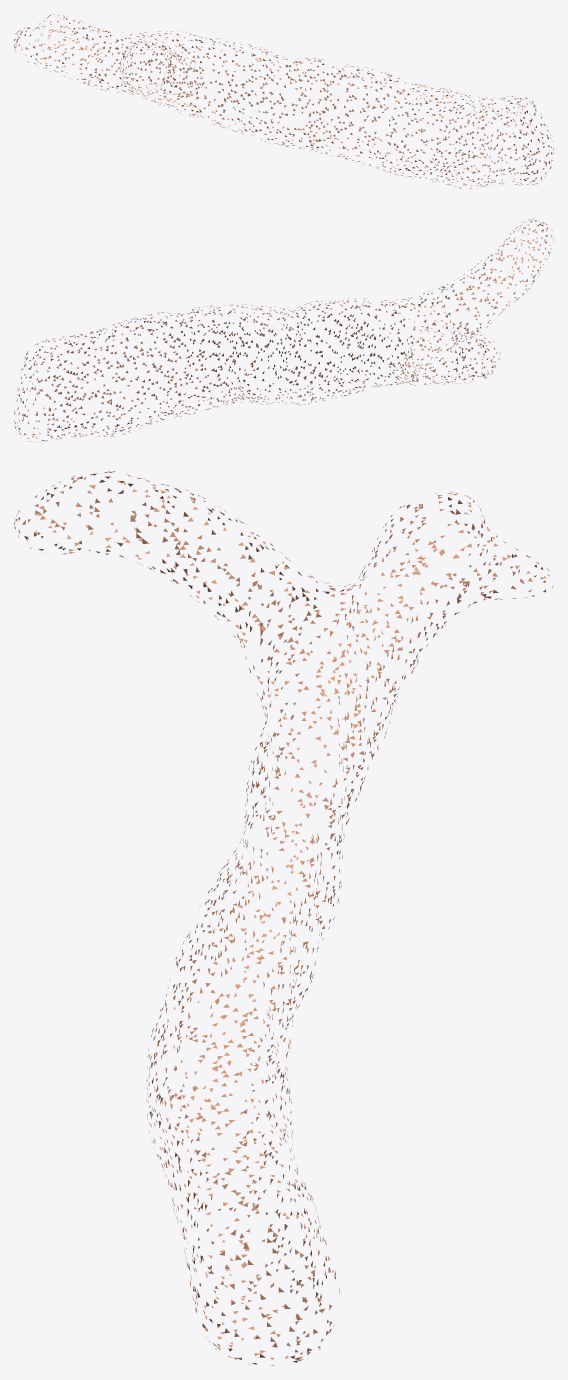
Rendered from morph_004.glb.
The picture shows the model from 3 angles, top to bottom: view 1: azimuth 30°, elevation 25°; view 2: azimuth 150°, elevation 25°; view 3: azimuth 270°, elevation 25°; orthographic projection. The views are drawn at different scales.
Bounding box in the file's own units: 130 × 68.29 × 65.6.
